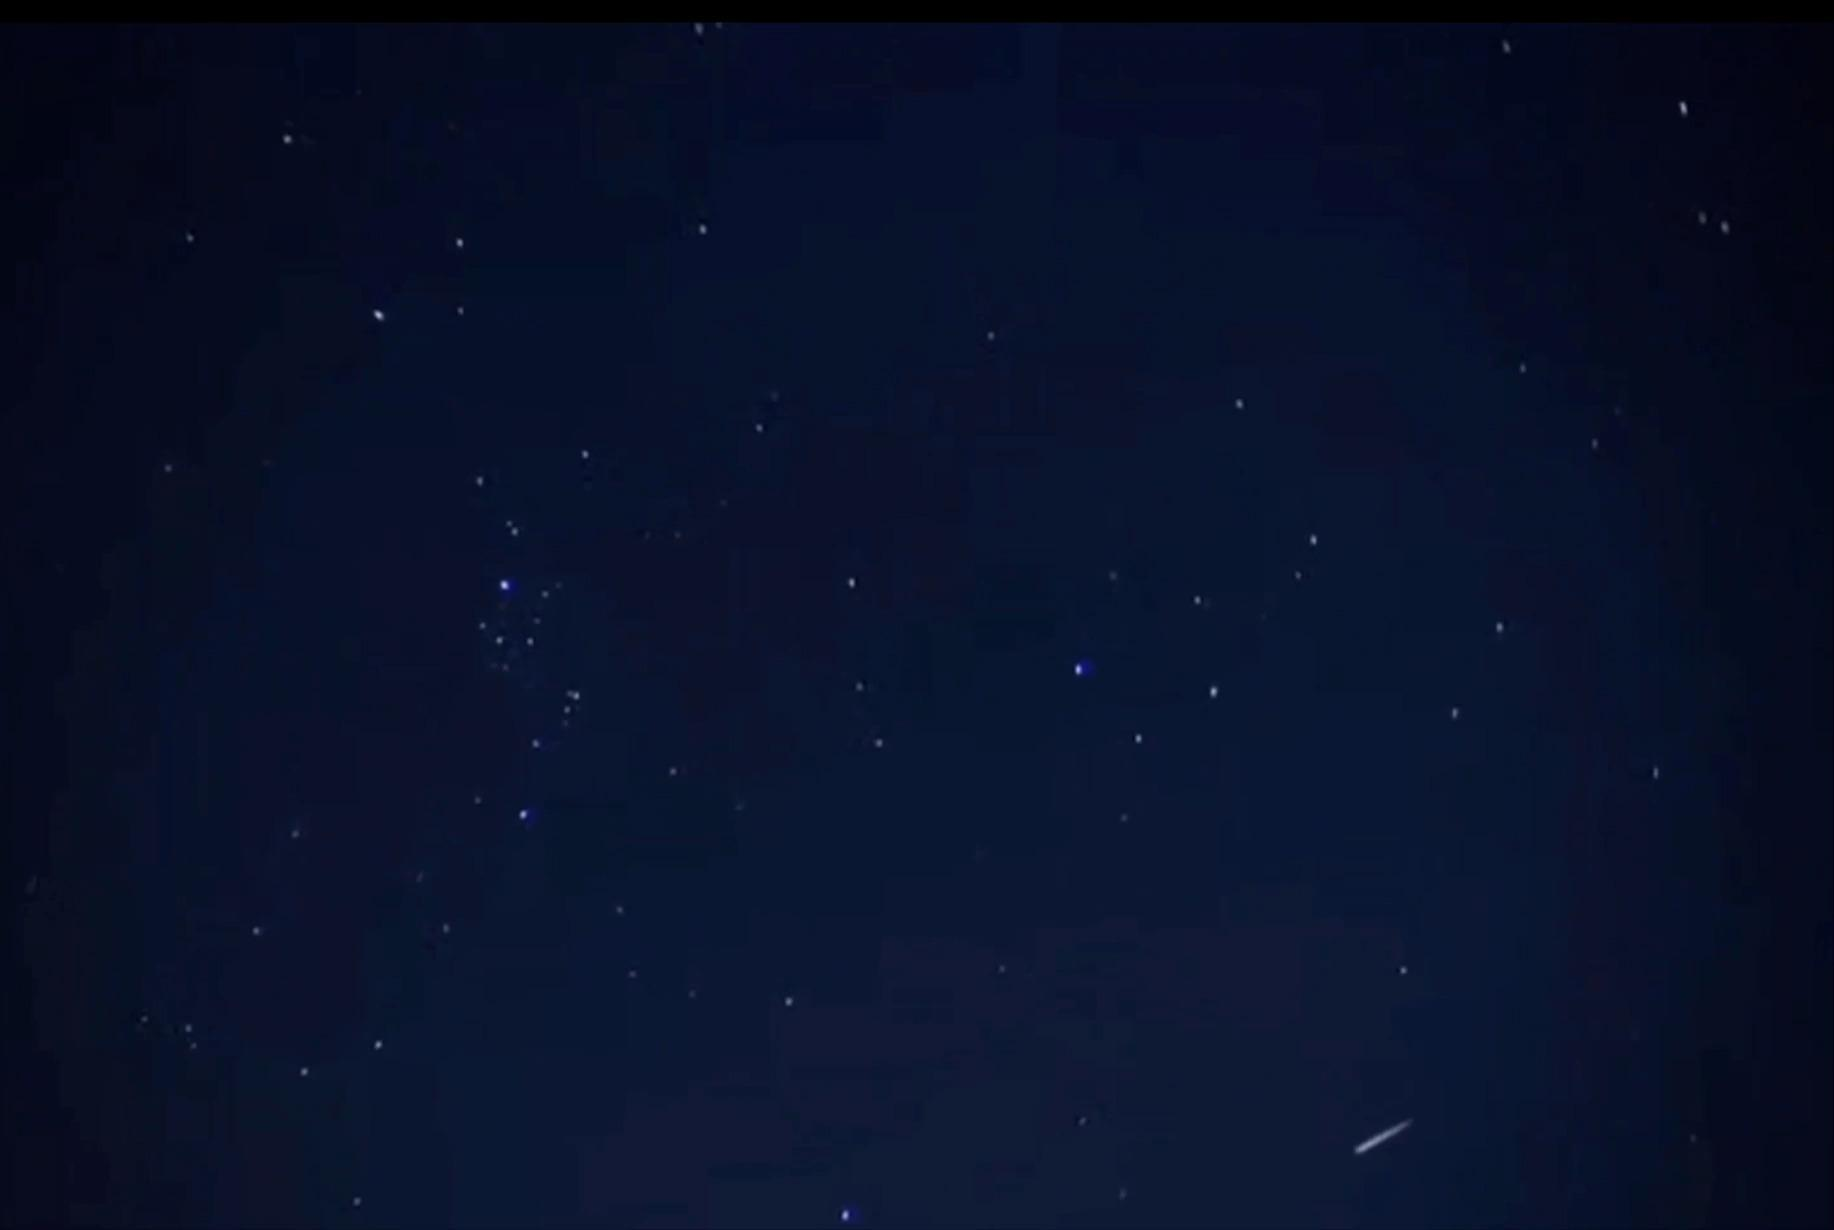meteorite: (1292, 1104, 1477, 1164)
